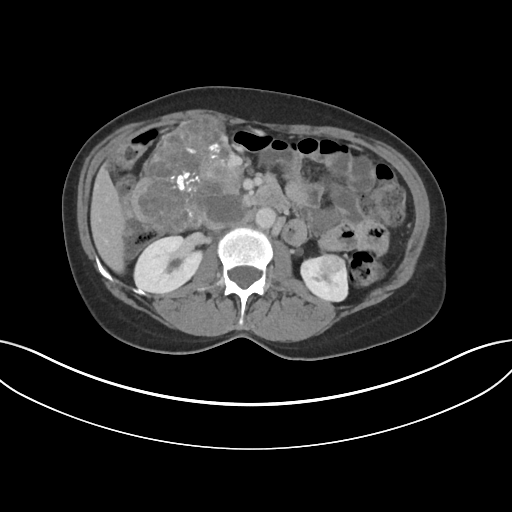Lesion: (312, 253, 348, 277)
